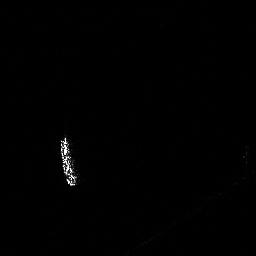ship: (54, 133, 82, 188)
